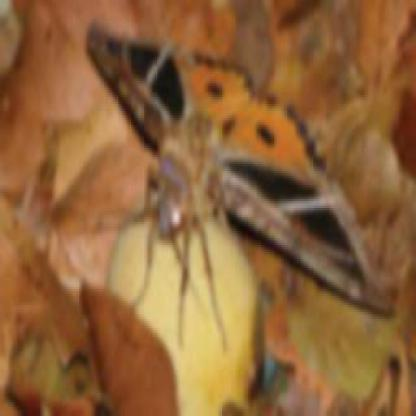fruit sucking moth: (90, 24, 395, 310)
